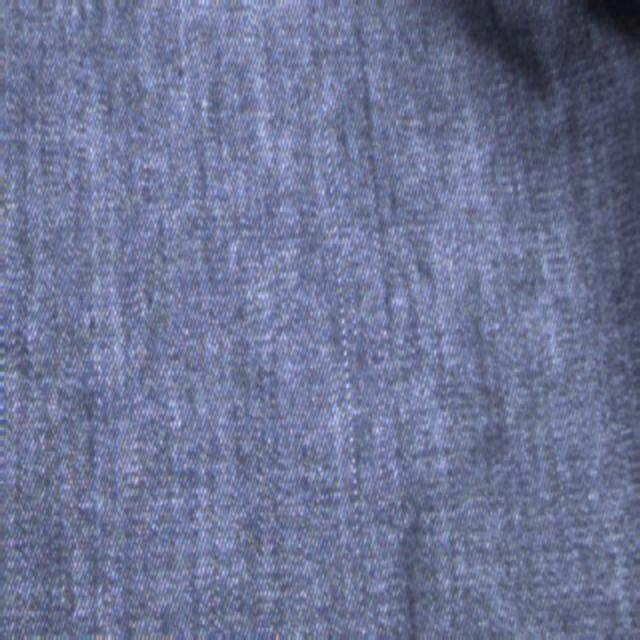pulled_or_thick_thread: (319, 102, 374, 640)
